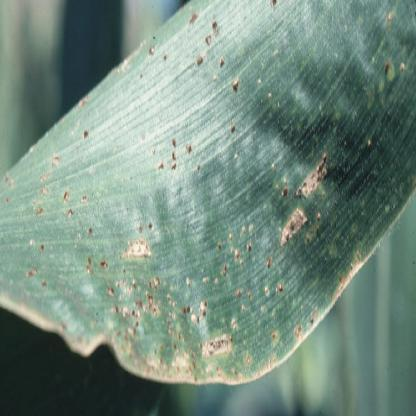Corn rust leaf: (0, 1, 416, 403)
